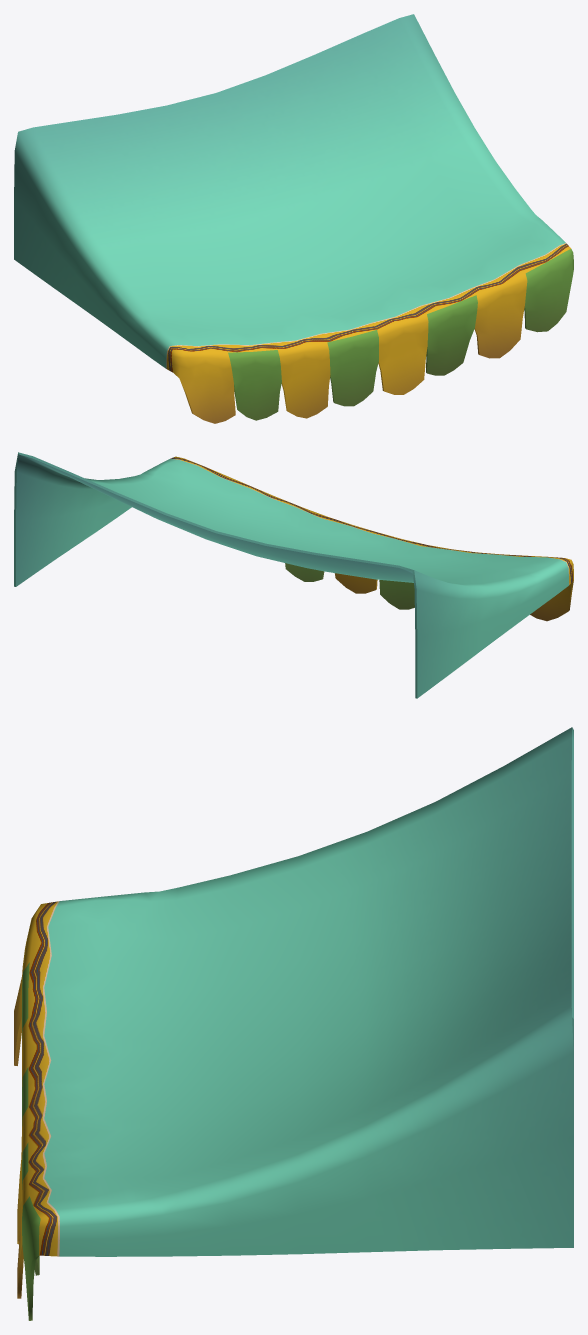
Rendered from M_Store_Rond_01.fbx.
The picture shows the model from 3 angles, top to bottom: view 1: azimuth 30°, elevation 25°; view 2: azimuth 150°, elevation 25°; view 3: azimuth 270°, elevation 25°; orthographic projection. The views are drawn at different scales.
Visible parts, largest first — view 1: Store_Rond_01; view 2: Store_Rond_01; view 3: Store_Rond_01.
Boxes of the visible parts, x1=… form: Store_Rond_01: x1=14, y1=14, x2=573, y2=423; Store_Rond_01: x1=14, y1=452, x2=573, y2=698; Store_Rond_01: x1=14, y1=727, x2=573, y2=1320.
Bounding box in the file's own units: 6.06 × 4.32 × 3.17.
Materials: 1 (1 with a texture image).
